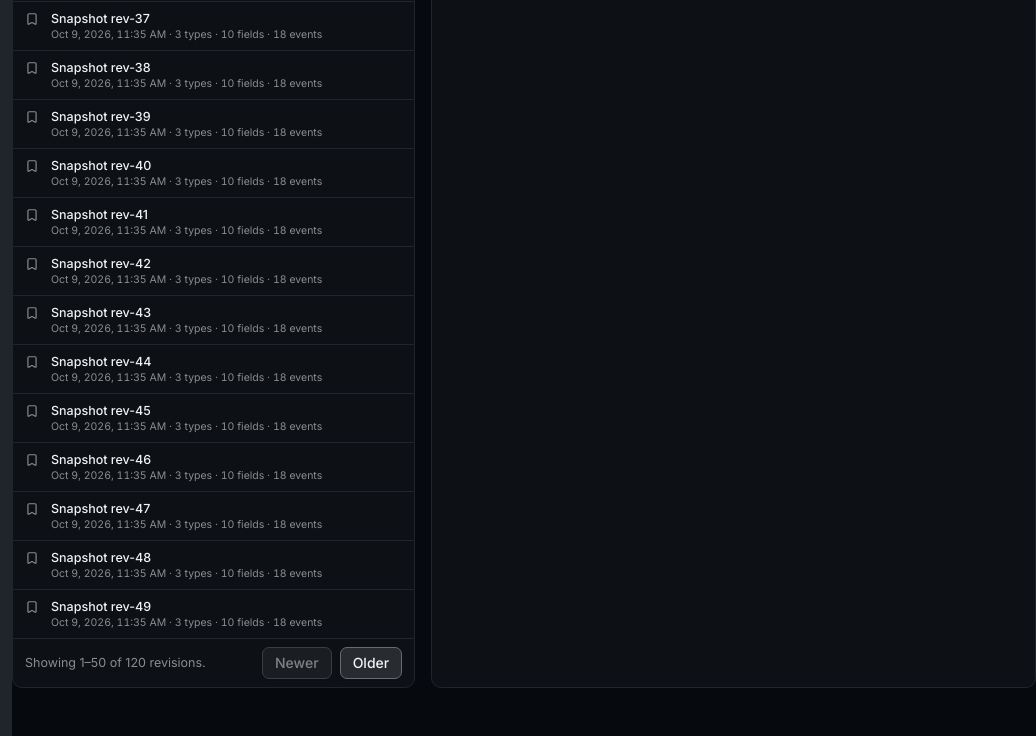
Test case: HistoryTab — paging › keeps the page on screen and refuses a second step until the next one lands
(page scrolled)
Expected: the text "Showing 1–50 of 120 revisions." is shown, [25,654,206,672]
Click the button "Older". click: (371, 662)
box: [340,646,402,678]
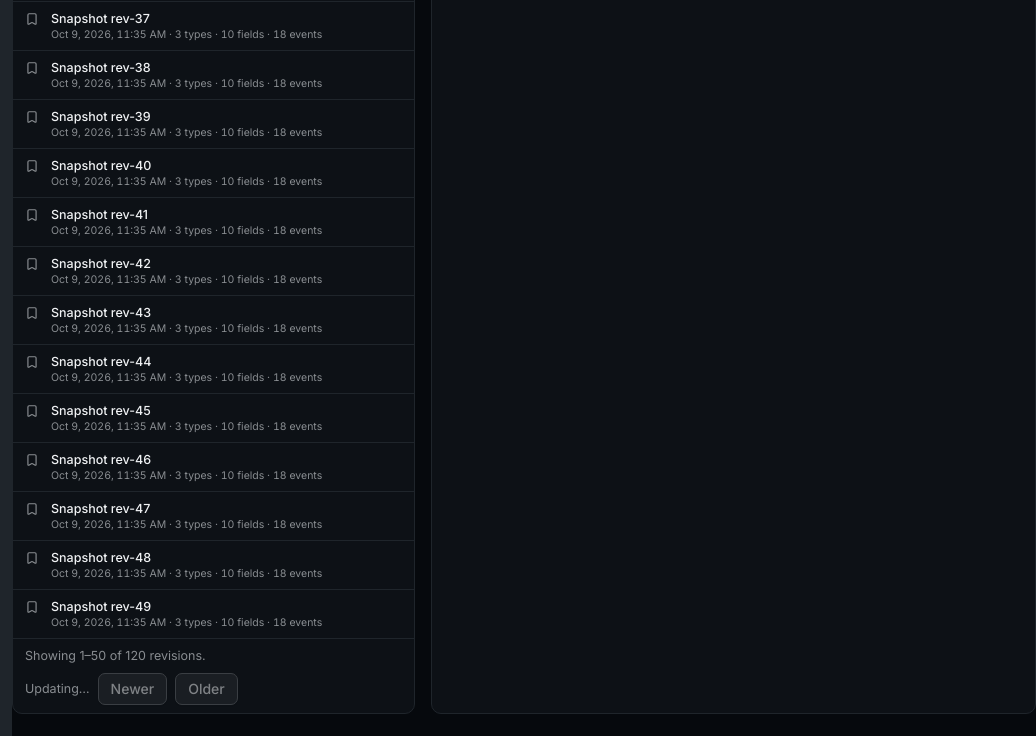
Expected: the text "Showing 1–50 of 120 revisions." is shown, [25,646,206,664]
Expected: the text "Updating…" is shown, [25,680,90,698]
Expected: the button "Older" is disabled
Click the button "Older". click: (206, 688)
box: [175,672,238,704]
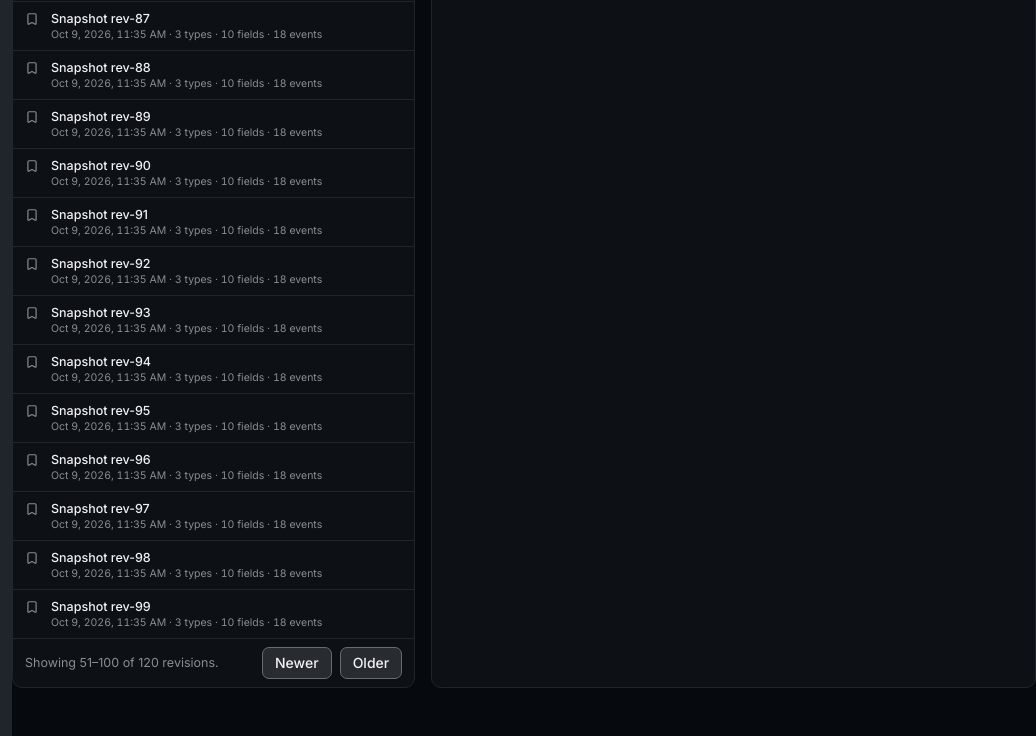
Expected: the text "Showing 51–100 of 120 revisions." is shown, [25,654,219,672]
Expected: the text "Updating…" is gone
